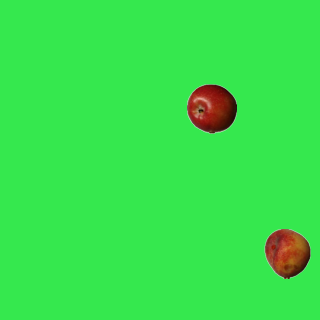Apple Braeburn: (186, 83, 236, 133)
Peach: (262, 228, 312, 278)
